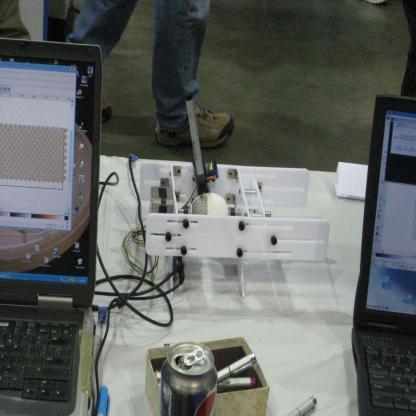board: (0, 36, 103, 416), (352, 93, 416, 416), (157, 342, 218, 416)
